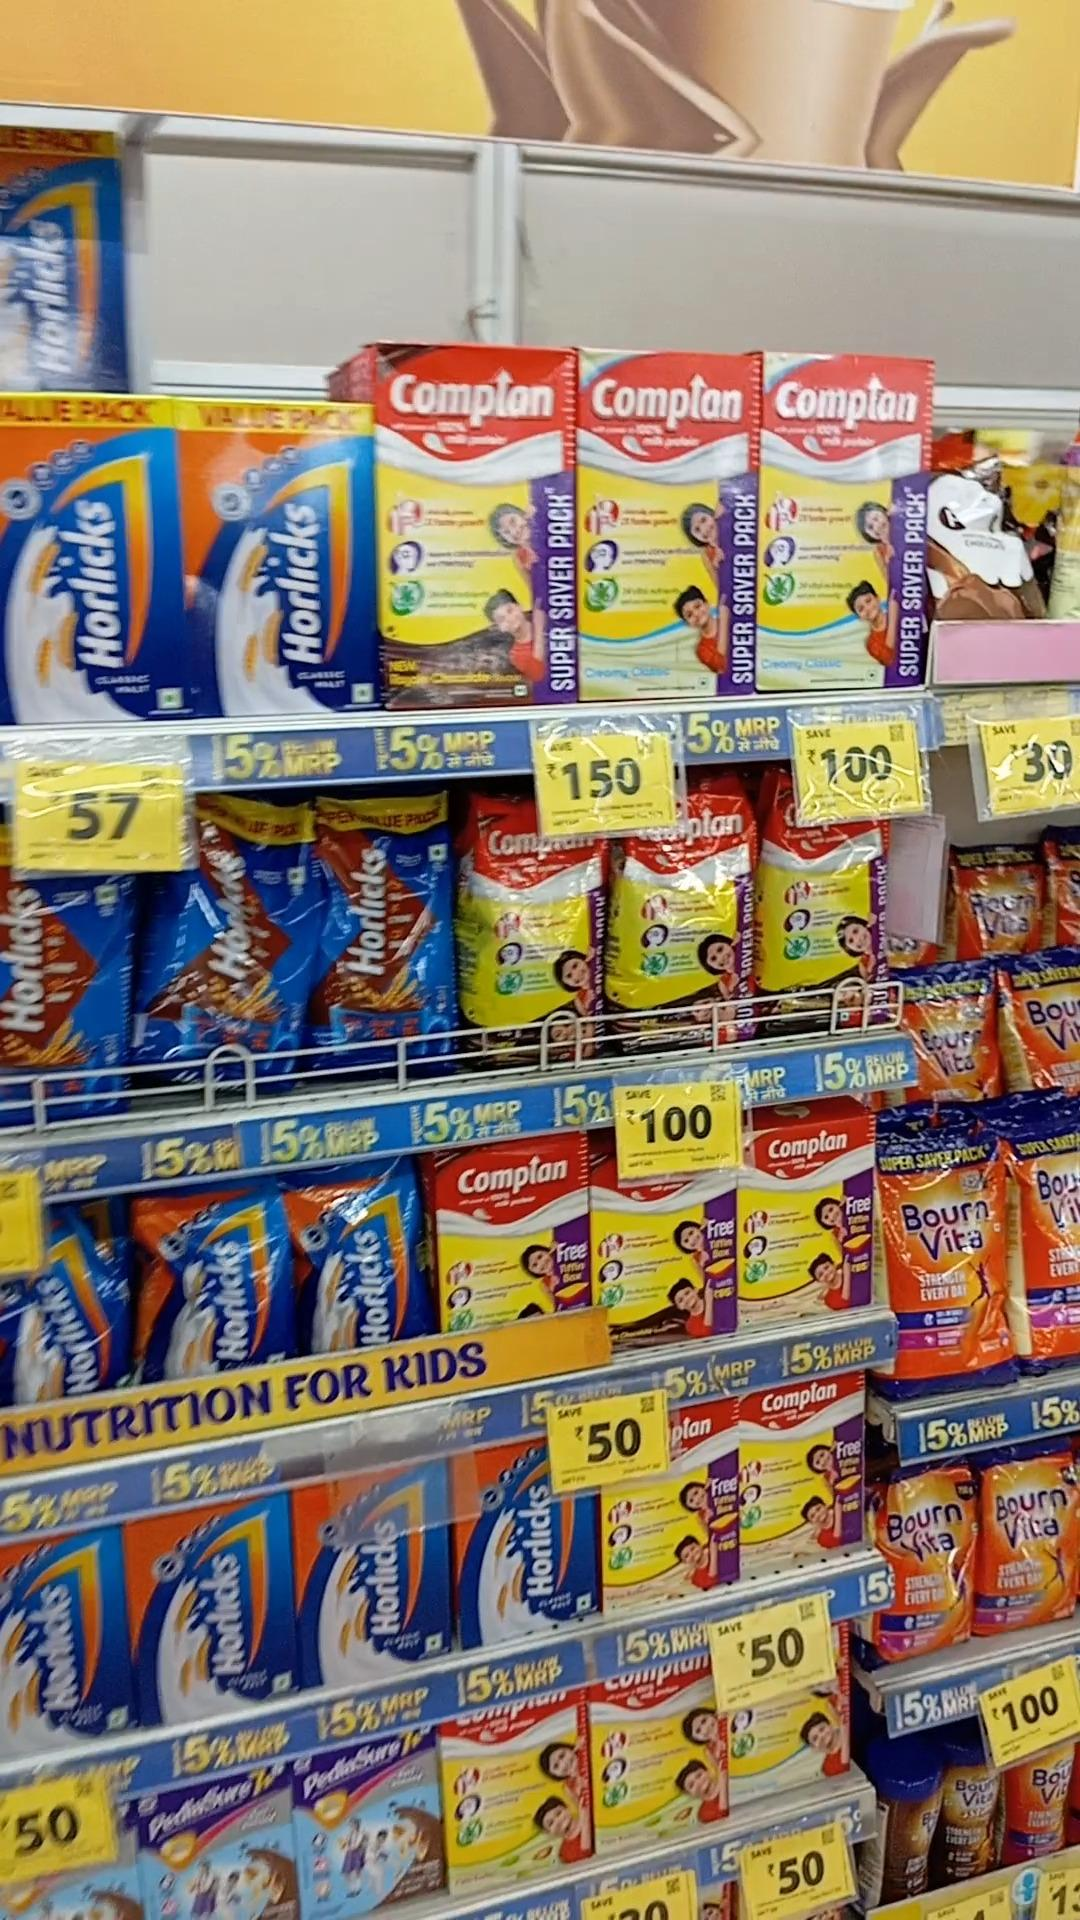BOURN_VITA_1_KG_POUCH: (882, 1133, 1013, 1394)
BOURN_VITA_500_G_POUCH: (870, 1456, 973, 1662), (978, 1445, 1080, 1636)
BOURN_VITA_FIVE_STAR_MAGIC_500_G_JAR: (942, 1742, 1002, 1883)
COMPLAN_CHOCOLATE_1_KG_PACK: (376, 345, 576, 704)
COMPLAN_CHOCOLATE_500_GMS_PACK: (438, 1138, 584, 1331), (592, 1160, 733, 1348)
COMPLAN_CREAMY_CLASSIC_500_G_PACK: (731, 1648, 856, 1813)
COMPLAN_KESAR_BADAM_500_GMS_PACK: (738, 1110, 876, 1333), (741, 1371, 864, 1572), (599, 1431, 740, 1600)
COMPLAN_PISTA_BADAM_500_GMS_PACK: (443, 1706, 583, 1883), (589, 1664, 723, 1838)
COMPLAN_RC_POUCH_700_GMS_12: (605, 789, 753, 1055), (459, 835, 603, 1069), (760, 804, 887, 1033)
HORLICK_CHOCOLATE_750_G_POUCH: (127, 796, 299, 1102), (302, 794, 452, 1093)
HORLICK_CLASSIC_MALT_500_G_PACK: (293, 1460, 446, 1685), (141, 1497, 289, 1729), (0, 1526, 131, 1754), (451, 1447, 593, 1643)
HORLICK_CLASSIC_MALT_750_G_POUCH: (286, 1156, 426, 1349), (138, 1184, 282, 1367), (4, 1216, 132, 1386)
PEDIASURE_7_PLUS_CHOCOLATE_400_G_PACK: (140, 1778, 294, 1920), (298, 1734, 429, 1899)
